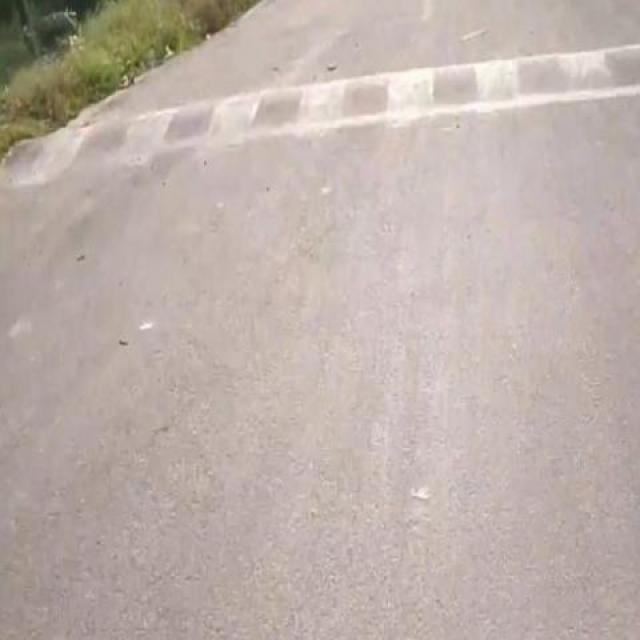Speed Bump: (0, 34, 639, 181)
